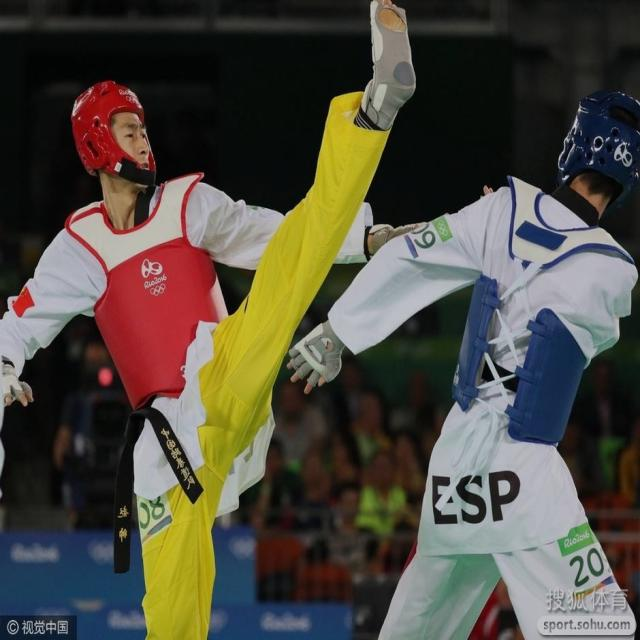fight: (0, 12, 640, 639)
